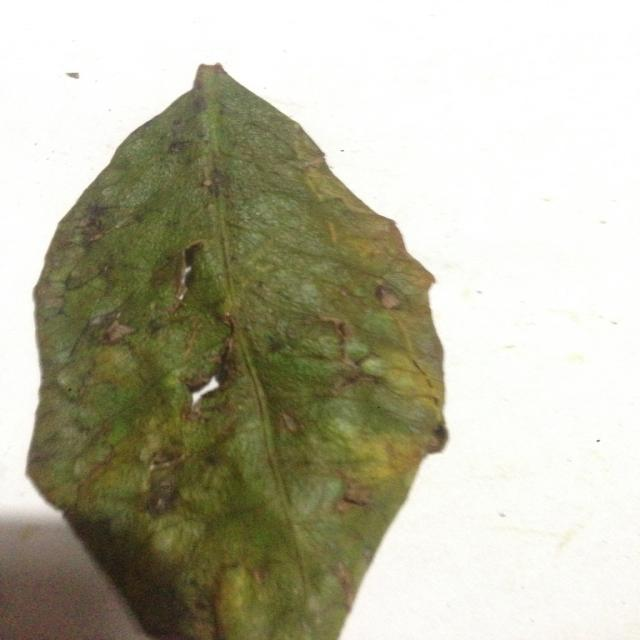Red Leaf Spot: (6, 48, 467, 640)
